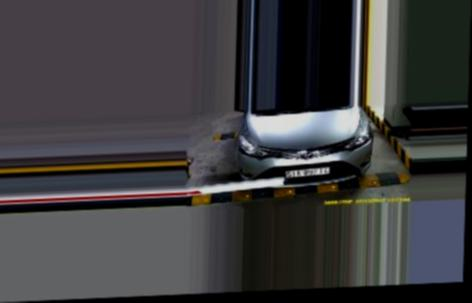License_Plate: (284, 164, 332, 178)
